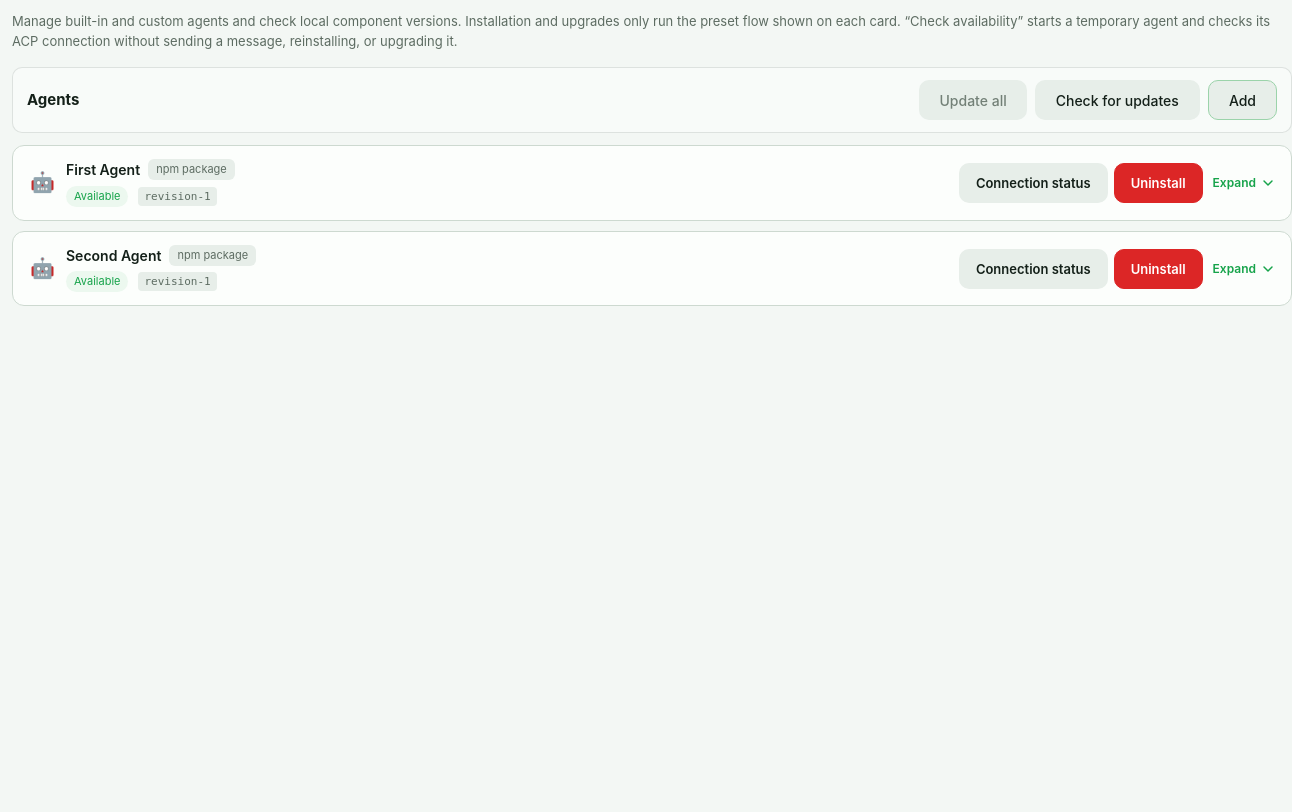
Test: AgentInstallSettings batch upgrades › starts every Agent collapsed and toggles each card independently
This screenshot has width=1292, height=812.
Expected: the text "First Agent" is shown, [66,159,140,181]
Expected: the button with test id "agent-uninstall-button" in the row of "First Agent" is shown, [1114,163,1203,203]
Click the button with test id "agent-install-card-toggle" in the row of "First Agent": [1244, 183] box [1213,175,1276,191]
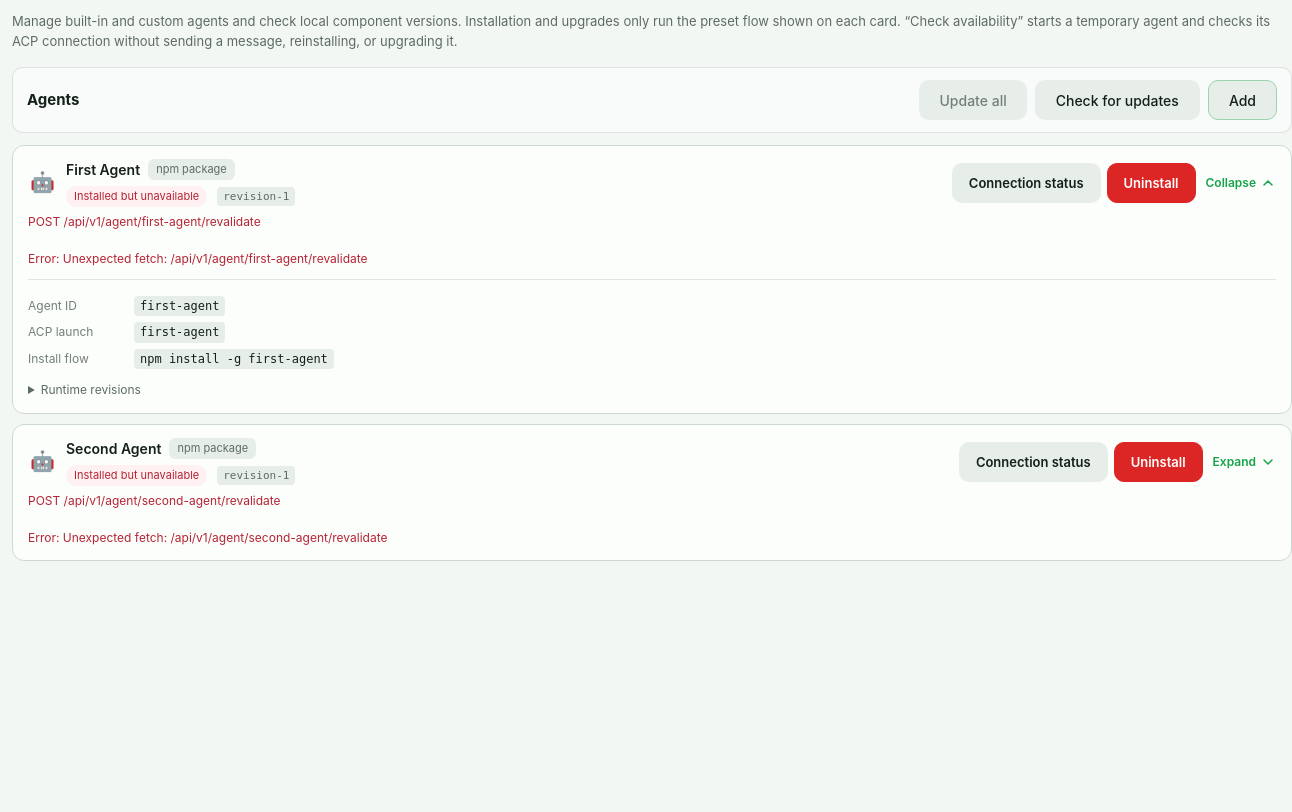
Expected: the text "Second Agent" is shown, [66,440,161,457]
Expected: the button with test id "agent-install-card-toggle" is expanded
Expected: the element with test id "agent-install-card-details" is shown, [28,278,1276,400]
Click the button with test id "agent-install-card-toggle" showing "Collapse": [1241, 183] box [1206,175,1276,191]
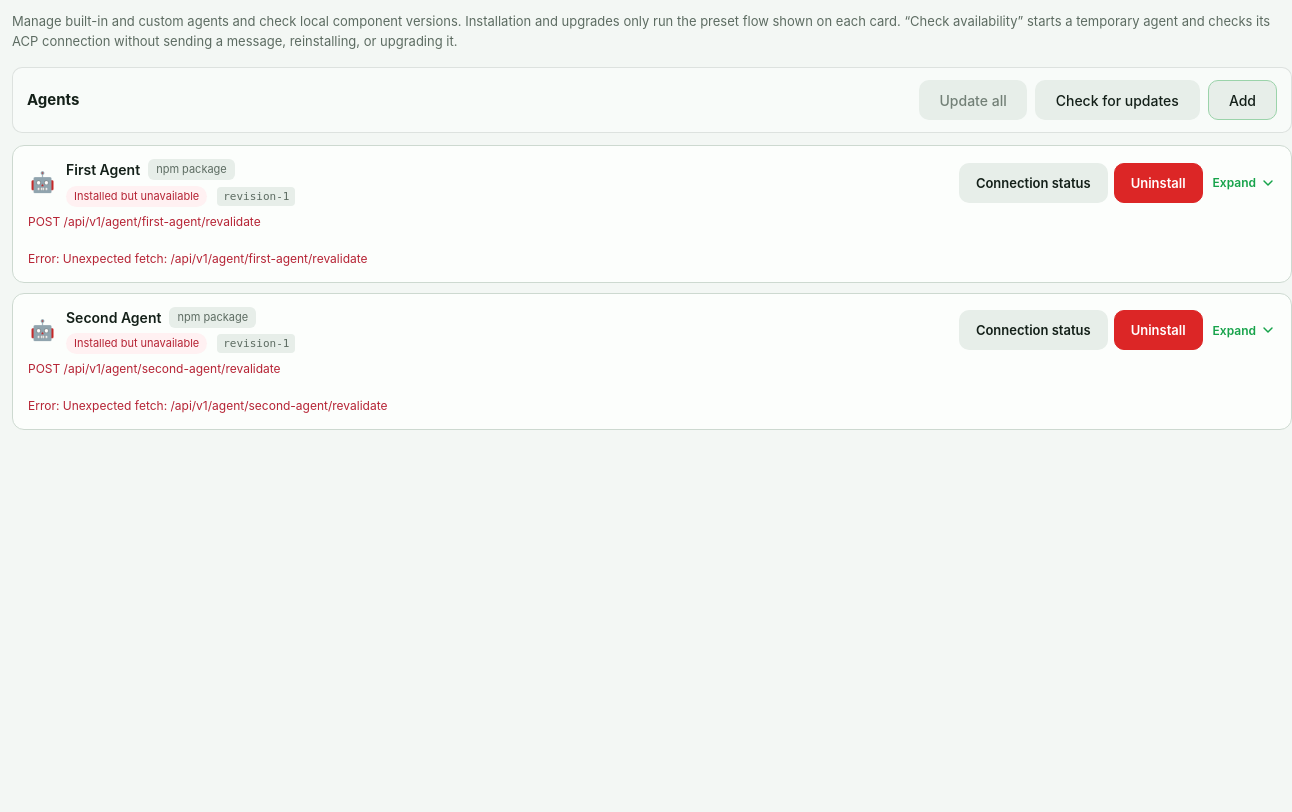
Expected: the element with test id "agent-install-card-details" is gone
